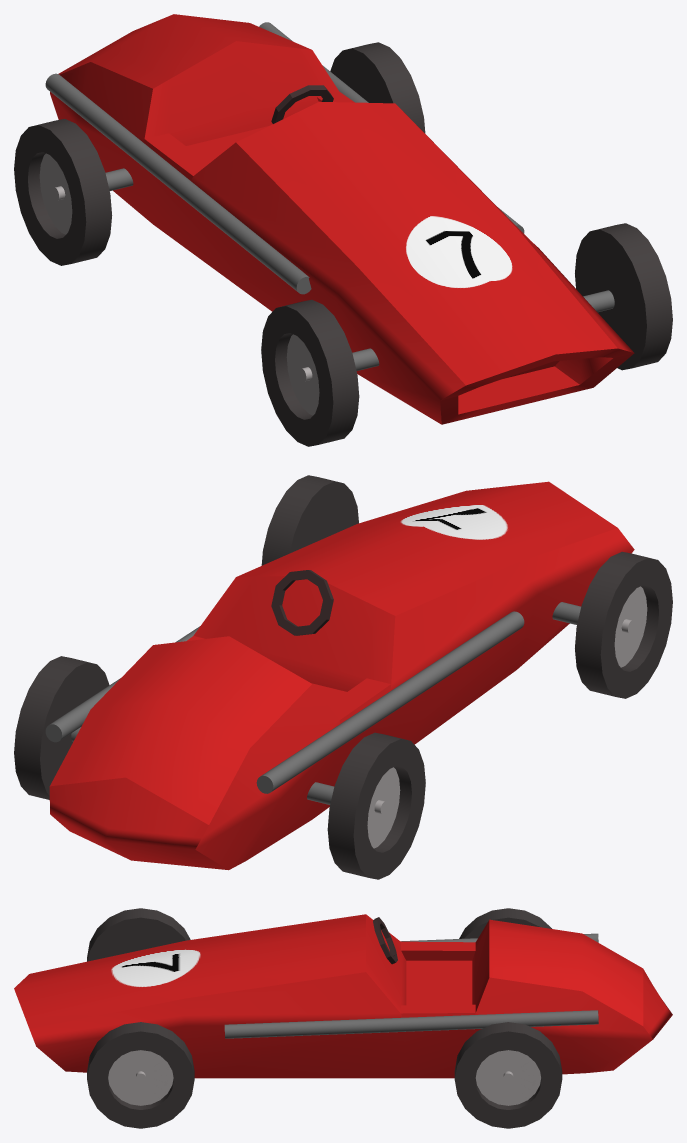
Rendered from Ferrari_500_export.fbx.
3 renders of one model, top to bottom at view 1: azimuth 30°, elevation 25°; view 2: azimuth 150°, elevation 25°; view 3: azimuth 270°, elevation 25°, orthographic. The views are drawn at different scales.
Parts seen in each view (by area): view 1: pCube1, right_back_wheel, right_front_wheel, left_front_wheel, pCylinder2, left_back_wheel, pCylinder9, pCylinder7, pCylinder1; view 2: pCube1, right_front_wheel, right_back_wheel, left_back_wheel, pCylinder2, left_front_wheel, pCylinder7, pCylinder1; view 3: pCube1, left_back_wheel, left_front_wheel, pCylinder1, right_front_wheel, right_back_wheel, pCylinder7.
Boxes of the visible parts, x1,y1,x2,y2 form: pCube1: [50, 14, 634, 424]; right_back_wheel: [14, 119, 112, 265]; right_front_wheel: [261, 299, 359, 446]; left_front_wheel: [575, 223, 672, 370]; pCylinder2: [45, 73, 311, 294]; left_back_wheel: [330, 42, 425, 133]; pCylinder9: [352, 290, 614, 370]; pCylinder7: [271, 85, 333, 123]; pCylinder1: [259, 22, 524, 233]; pCube1: [49, 481, 634, 870]; right_front_wheel: [575, 551, 672, 698]; right_back_wheel: [327, 732, 425, 879]; left_back_wheel: [14, 656, 109, 799]; pCylinder2: [256, 611, 524, 793]; left_front_wheel: [261, 475, 358, 565]; pCylinder7: [271, 570, 333, 635]; pCylinder1: [45, 626, 199, 742]; pCube1: [14, 914, 672, 1078]; left_back_wheel: [454, 1022, 562, 1128]; left_front_wheel: [87, 1022, 194, 1128]; pCylinder1: [224, 1010, 598, 1038]; right_front_wheel: [87, 908, 190, 961]; right_back_wheel: [459, 908, 551, 938]; pCylinder7: [373, 917, 397, 964].
Bounding box in the file's own units: 5.86 × 3.28 × 13.23.
